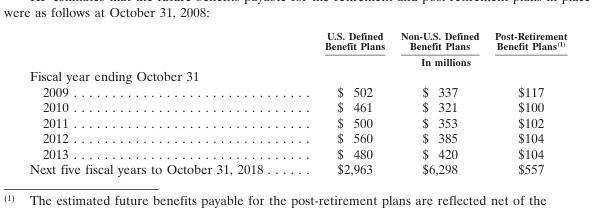table: (28, 29, 566, 176)
table column: (28, 29, 293, 176), (293, 29, 392, 176), (392, 29, 486, 176), (486, 29, 566, 176)
table column header: (28, 29, 566, 67)
table projected row header: (28, 67, 566, 83)
table row: (28, 29, 566, 53), (28, 67, 566, 83), (28, 98, 566, 114), (28, 129, 566, 145), (28, 160, 566, 176), (28, 83, 566, 98), (28, 114, 566, 129), (28, 145, 566, 160), (28, 53, 566, 67)
table spanning cell: (293, 53, 566, 67)
